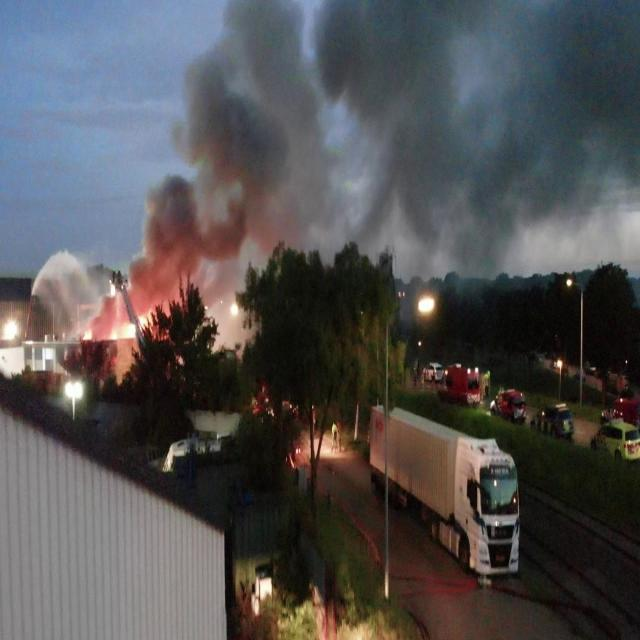Fire: (126, 324, 136, 338), (138, 316, 147, 330), (83, 330, 92, 340), (111, 333, 117, 339)
Smoke: (65, 0, 640, 386)
